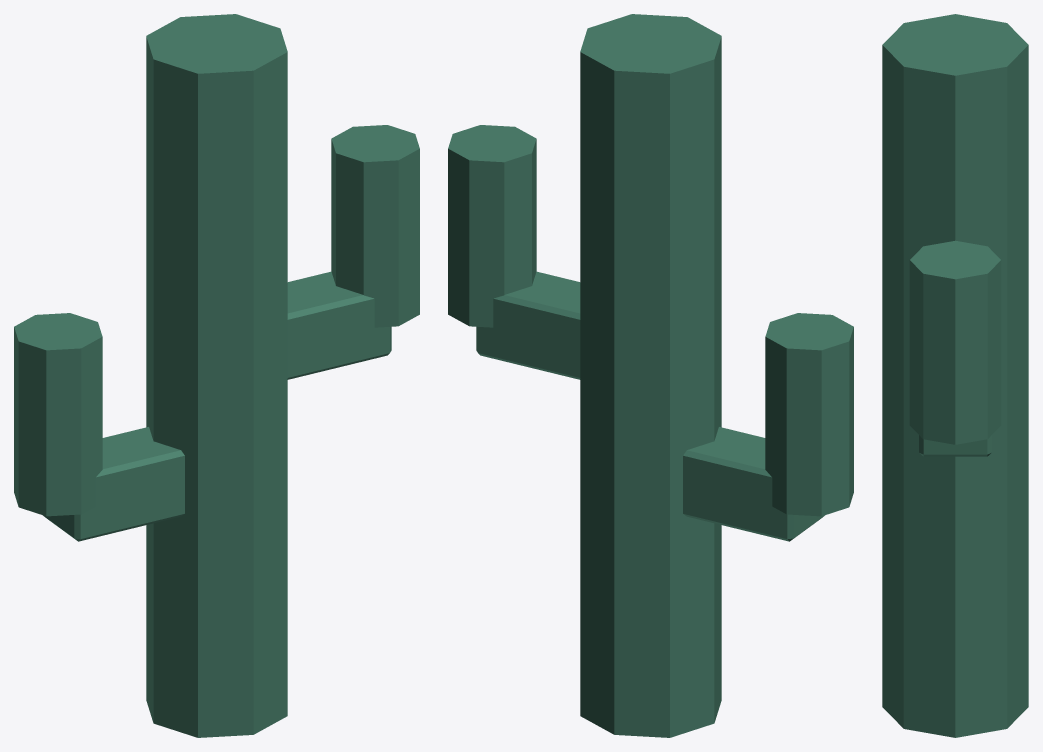
File: cactus.glb
3 renders of one model, left to right at view 1: azimuth 30°, elevation 25°; view 2: azimuth 150°, elevation 25°; view 3: azimuth 270°, elevation 25°, orthographic.
Visible parts, largest first — view 1: cactus-stem, cactus-finger, cactus-finger.001, cactus-arm, cactus-arm.001; view 2: cactus-stem, cactus-finger, cactus-finger.001, cactus-arm, cactus-arm.001; view 3: cactus-stem, cactus-finger.001, cactus-arm.001.
Part boxes in pixels (x1,y1,x2,y2): cactus-stem: (146,14,287,737); cactus-finger: (14,313,102,516); cactus-finger.001: (331,125,419,327); cactus-arm: (43,427,184,541); cactus-arm.001: (287,271,391,379); cactus-stem: (580,14,721,737); cactus-finger: (765,313,853,516); cactus-finger.001: (448,125,536,327); cactus-arm: (683,427,824,541); cactus-arm.001: (476,271,580,379); cactus-stem: (882,14,1028,737); cactus-finger.001: (909,240,1001,444); cactus-arm.001: (919,435,991,456).
Bounding box in the file's own units: 1.5 × 2.4 × 0.48.
